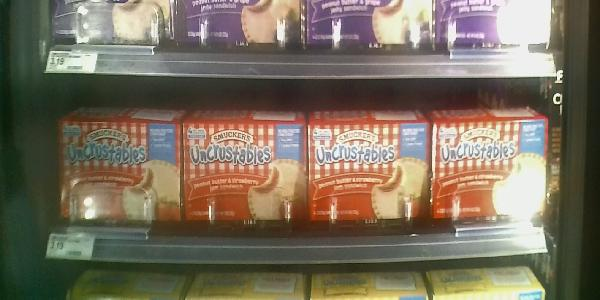icecream: (52, 99, 185, 245), (308, 97, 434, 249), (185, 109, 313, 254), (431, 112, 557, 252)
